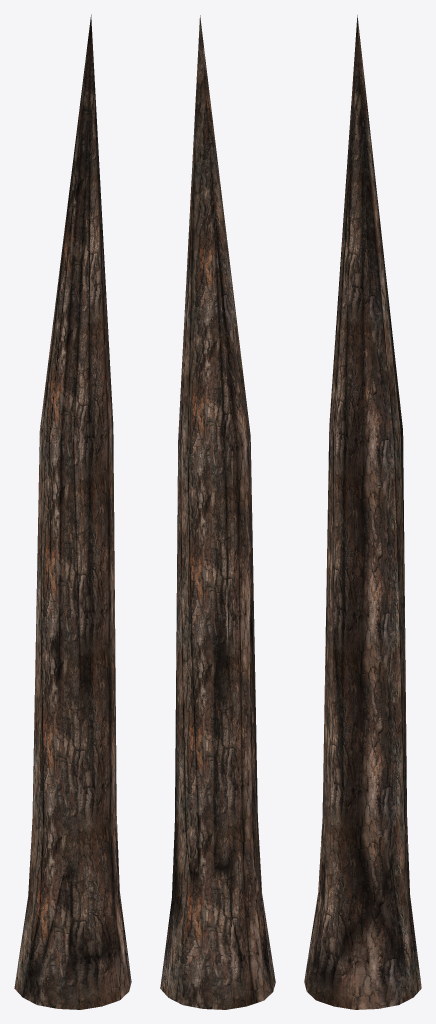
The model's file is PINE_trunk.glb.
3 renders of one model, left to right at view 1: azimuth 30°, elevation 25°; view 2: azimuth 210°, elevation 25°; view 3: azimuth 330°, elevation 25°, orthographic.
Visible parts, largest first — view 1: Trunk; view 2: Trunk; view 3: Trunk.
Part boxes in pixels (x1,y1,x2,y2): Trunk: (14,14,131,1009); Trunk: (160,15,275,1009); Trunk: (304,15,421,1009).
Size of the model in its own units: 0.01 by 0.0931 by 0.01.
1 material, 1 textured.
